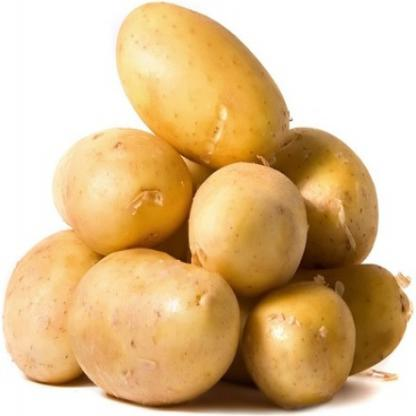potato: (117, 3, 291, 173), (70, 245, 240, 407), (52, 126, 192, 256), (1, 225, 101, 384), (187, 162, 308, 288), (273, 126, 379, 269), (244, 284, 352, 401)
